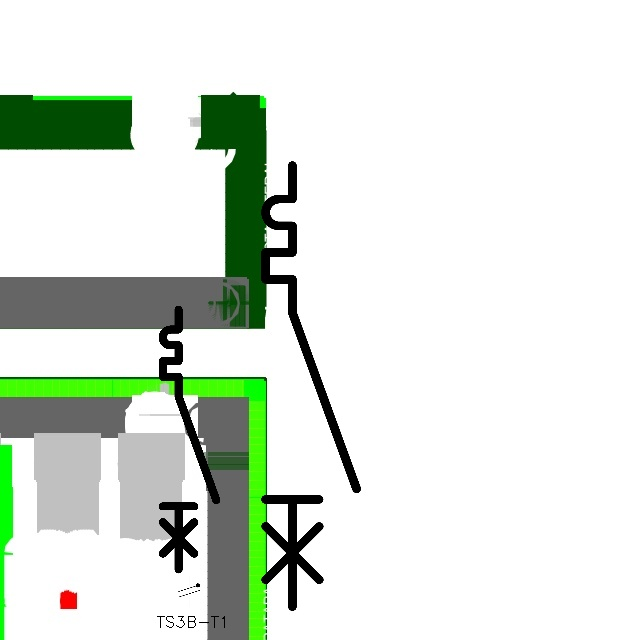interruptor_termomagnetico: (254, 154, 367, 618), (156, 303, 223, 576)
